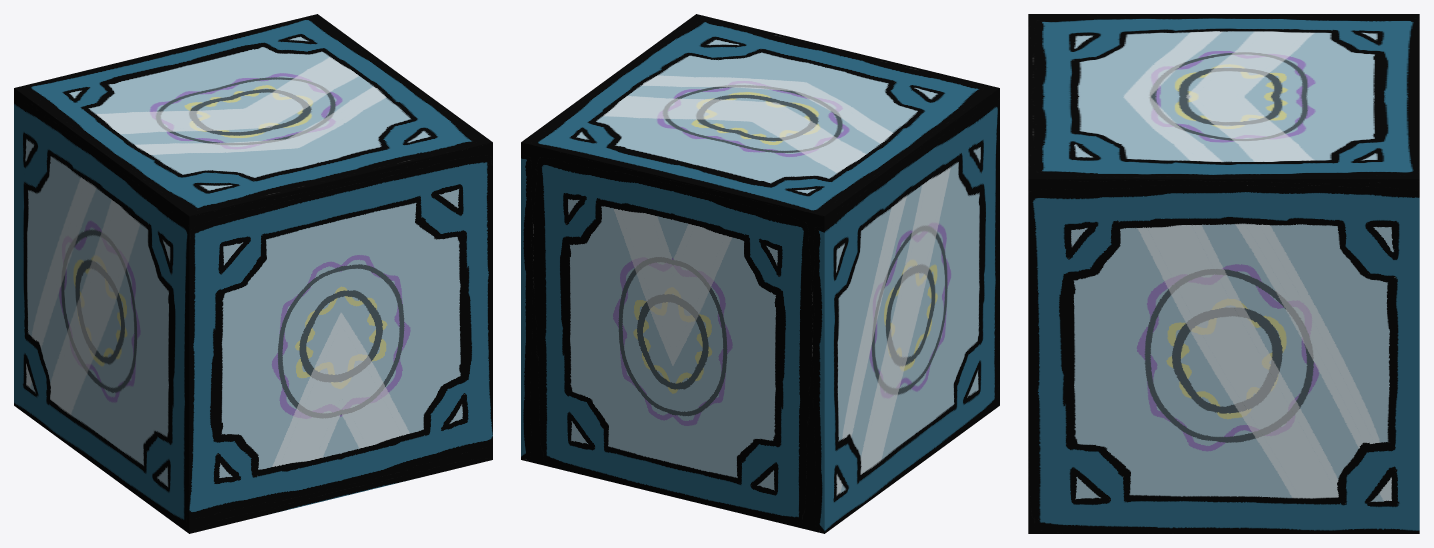
Rendered from Blue Switch.fbx.
3 renders of one model, left to right at view 1: azimuth 30°, elevation 25°; view 2: azimuth 150°, elevation 25°; view 3: azimuth 270°, elevation 25°, orthographic. The views are drawn at different scales.
Visible parts, largest first — view 1: Blue Switch; view 2: Blue Switch; view 3: Blue Switch.
Part boxes in pixels (x1,y1,x2,y2): Blue Switch: [14, 14, 492, 533]; Blue Switch: [521, 14, 999, 533]; Blue Switch: [1028, 14, 1419, 533].
Bounding box in the file's own units: 66.57 × 66.57 × 66.57.
